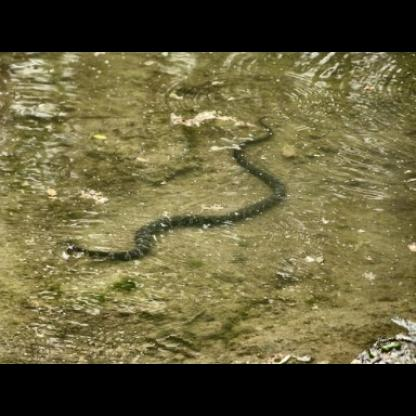Snake: (64, 121, 291, 266)
